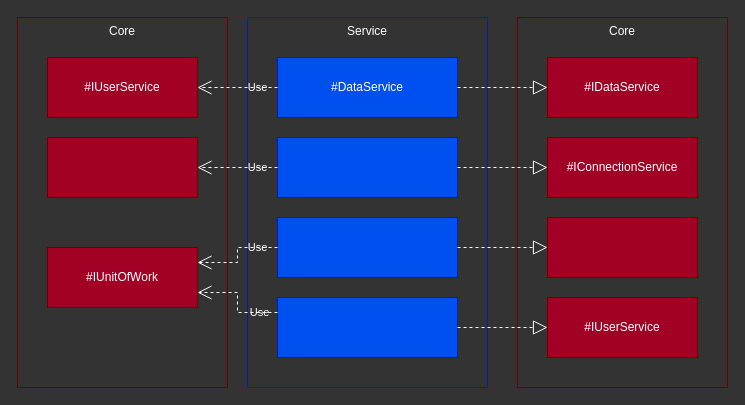
The diagram is 745 pixels wide and 405 high, and some of its shapes have lost their labels. Here are the shapes that lost their labels. From the top down, the centre of each, then its label:
At pixel 122 167: "#ITCPListenerProvider".
At pixel 367 167: "#ConnectionService".
At pixel 367 247: "#ClientService".
At pixel 622 247: "#IClientService".
At pixel 367 327: "#UserService".
